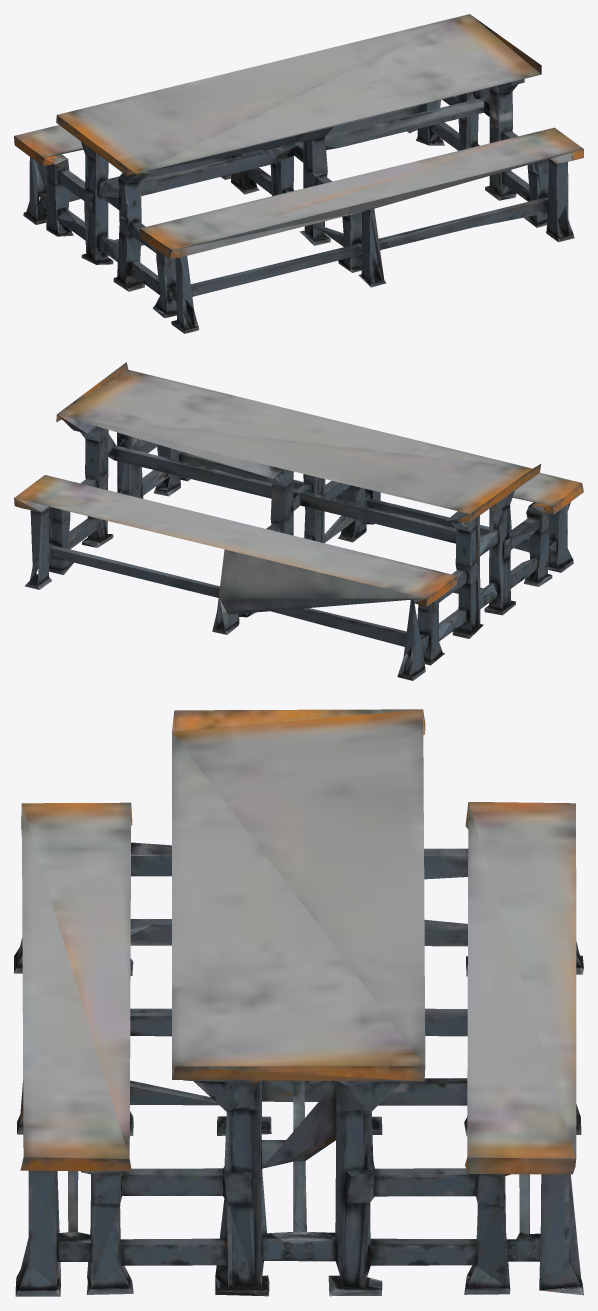
Rendered from table.glb.
3 views of the same model, one above another, from view 1: azimuth 30°, elevation 25°; view 2: azimuth 150°, elevation 25°; view 3: azimuth 270°, elevation 25° (orthographic). The views are drawn at different scales.
Parts seen in each view (by area): view 1: Mesh_0; view 2: Mesh_0; view 3: Mesh_0.
Boxes of the visible parts, <box> form: Mesh_0: <box>14,14,583,333</box>; Mesh_0: <box>14,362,583,680</box>; Mesh_0: <box>14,709,583,1296</box>.
Bounding box in the file's own units: 2.8 × 0.884 × 1.89.
1 material, 1 textured.
